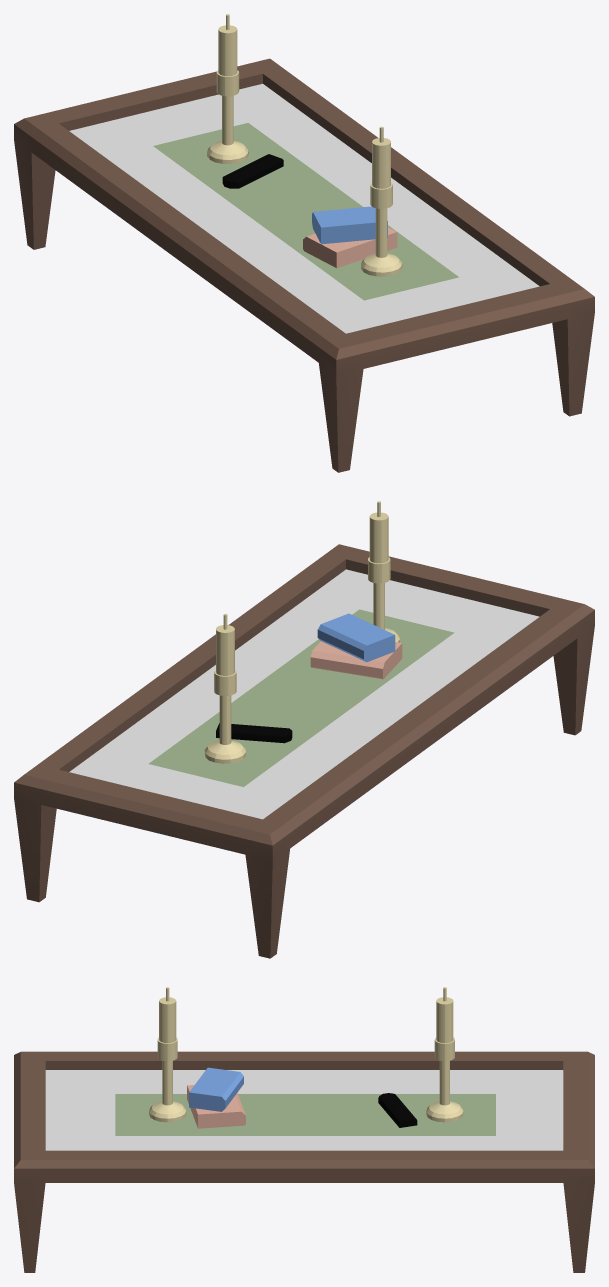
Rendered from geo_coffeeTable_01.fbx.
3 renders of one model, top to bottom at view 1: azimuth 30°, elevation 25°; view 2: azimuth 150°, elevation 25°; view 3: azimuth 270°, elevation 25°, orthographic. The views are drawn at different scales.
Visible parts, largest first — view 1: geo_CoffeeTable_01, geo_floorMat_04, geo_candlecoffeetable_02, geo_candlecoffeetabel_01, geo_book002, geo_book001, geo_remote_01; view 2: geo_CoffeeTable_01, geo_floorMat_04, geo_candlecoffeetabel_01, geo_book002, geo_candlecoffeetable_02, geo_book001, geo_remote_01; view 3: geo_CoffeeTable_01, geo_floorMat_04, geo_candlecoffeetabel_01, geo_candlecoffeetable_02, geo_book002, geo_book001, geo_remote_01.
Boxes of the visible parts, <box> form: geo_CoffeeTable_01: <box>14,58,594,472</box>; geo_floorMat_04: <box>153,123,458,300</box>; geo_candlecoffeetable_02: <box>361,126,402,276</box>; geo_candlecoffeetabel_01: <box>207,14,248,163</box>; geo_book002: <box>312,206,387,244</box>; geo_book001: <box>303,227,397,268</box>; geo_remote_01: <box>222,154,283,188</box>; geo_CoffeeTable_01: <box>14,544,594,958</box>; geo_floorMat_04: <box>148,609,454,786</box>; geo_candlecoffeetabel_01: <box>204,613,245,763</box>; geo_book002: <box>317,613,395,661</box>; geo_candlecoffeetable_02: <box>368,501,399,642</box>; geo_book001: <box>310,641,402,679</box>; geo_remote_01: <box>216,723,292,743</box>; geo_CoffeeTable_01: <box>14,1051,594,1272</box>; geo_floorMat_04: <box>115,1094,495,1135</box>; geo_candlecoffeetabel_01: <box>426,987,463,1122</box>; geo_candlecoffeetable_02: <box>149,987,186,1122</box>; geo_book002: <box>189,1067,243,1111</box>; geo_book001: <box>187,1085,245,1128</box>; geo_remote_01: <box>378,1093,417,1127</box>.
Bounding box in the file's own units: 34.29 × 32.59 × 73.98.
